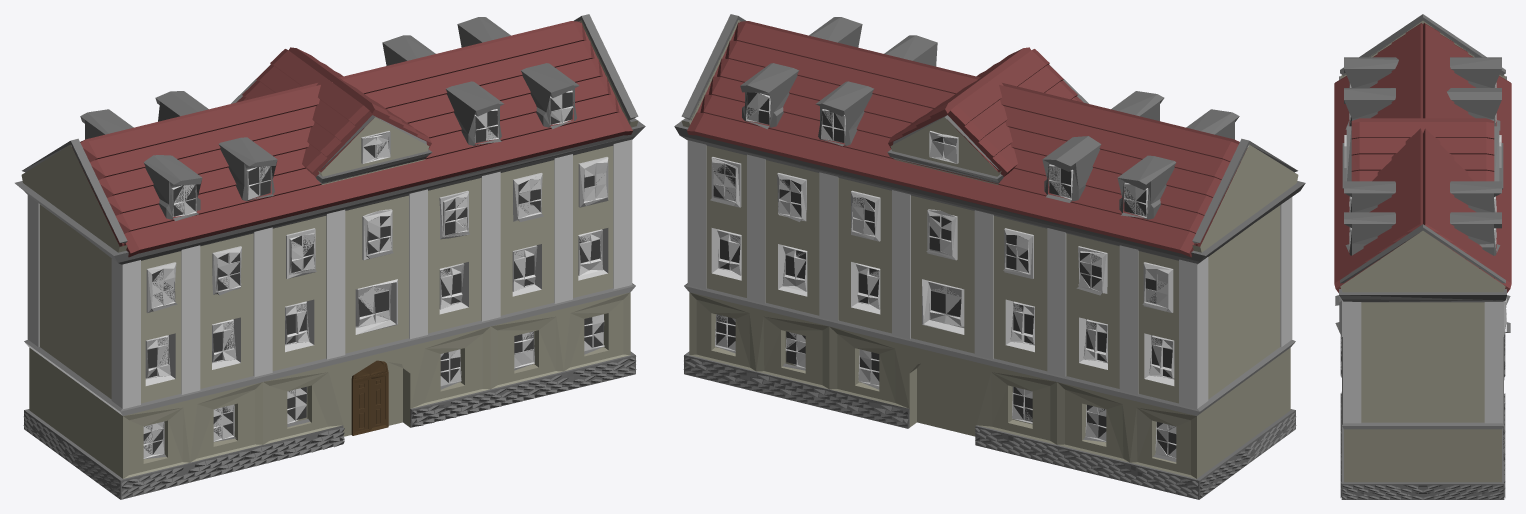
Rendered from b_building1_large.glb.
The picture shows the model from 3 angles, left to right: view 1: azimuth 30°, elevation 25°; view 2: azimuth 150°, elevation 25°; view 3: azimuth 270°, elevation 25°; orthographic projection. The views are drawn at different scales.
Parts seen in each view (by area): view 1: Building1_Large; view 2: Building1_Large; view 3: Building1_Large.
Part boxes in pixels (left/top/right/bottom): Building1_Large: left=15, top=14, right=645, bottom=499; Building1_Large: left=674, top=14, right=1305, bottom=499; Building1_Large: left=1334, top=14, right=1511, bottom=499.
Bounding box in the file's own units: 7.99 × 4.67 × 2.74.
